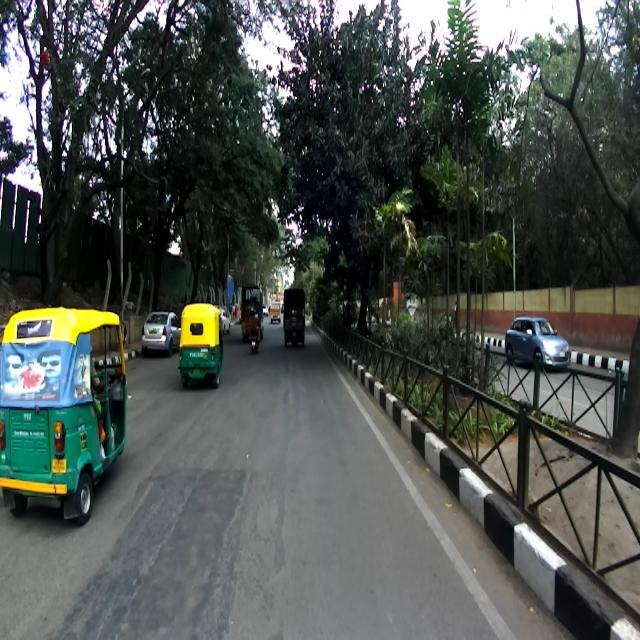Car_Maruti-Suzuki: (504, 316, 570, 372)
autorickshaw: (0, 303, 126, 524), (177, 301, 222, 389)
